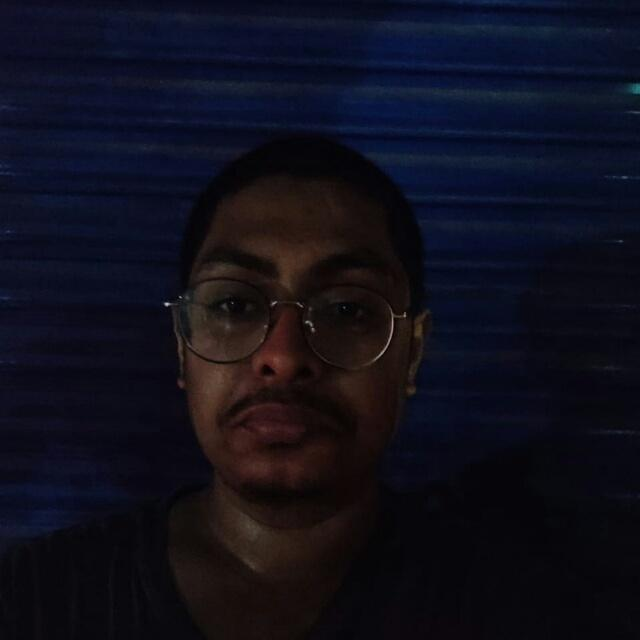Sad: (126, 163, 446, 533)
